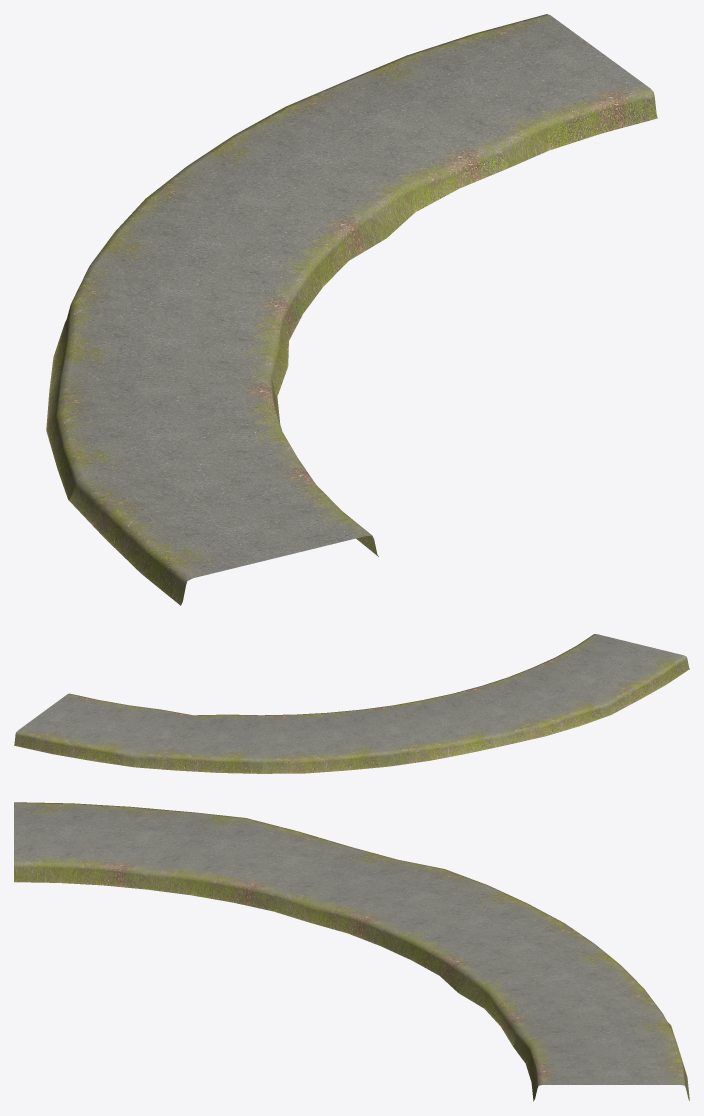
Rendered from SM_road_dirt_curve_02.fbx.
3 views of the same model, one above another, from view 1: azimuth 30°, elevation 25°; view 2: azimuth 150°, elevation 25°; view 3: azimuth 270°, elevation 25° (orthographic). The views are drawn at different scales.
Parts seen in each view (by area): view 1: Plane013; view 2: Plane013; view 3: Plane013.
Boxes of the visible parts, x1=… form: Plane013: x1=46, y1=14, x2=657, y2=605; Plane013: x1=14, y1=634, x2=689, y2=773; Plane013: x1=14, y1=802, x2=689, y2=1101.
Bounding box in the file's own units: 510 × 14.07 × 510.
